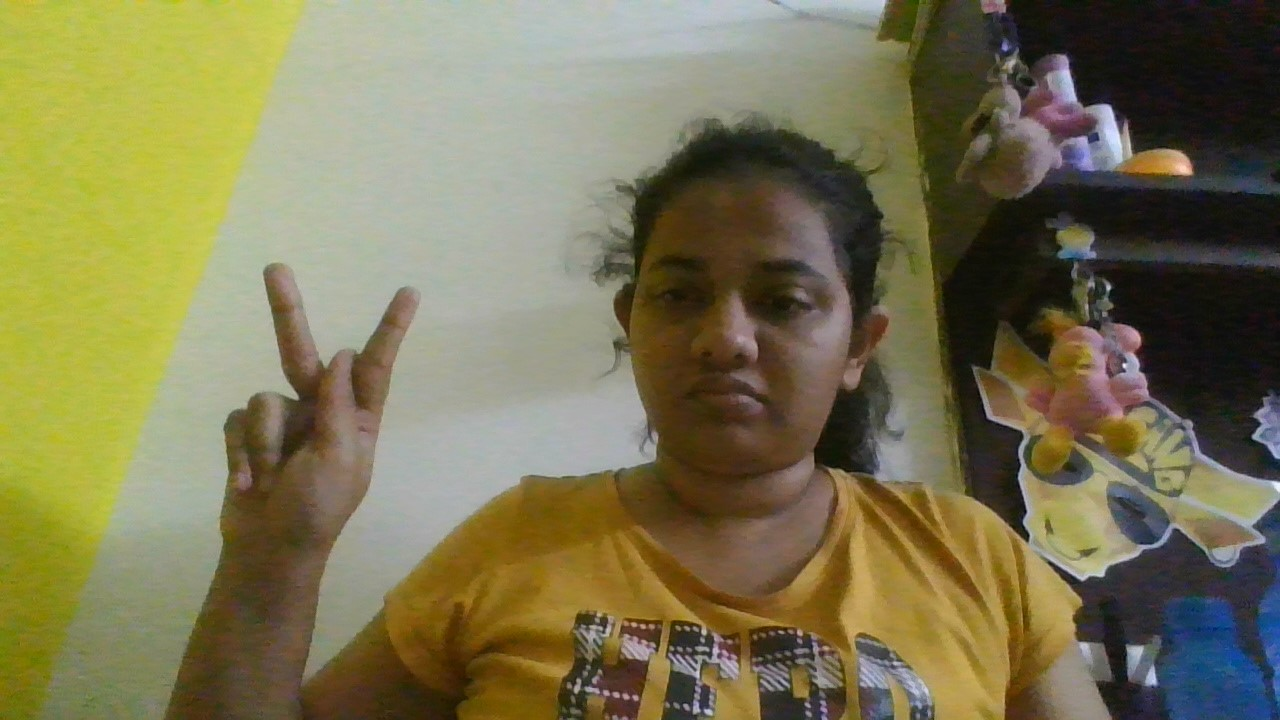k: (193, 257, 439, 553)
